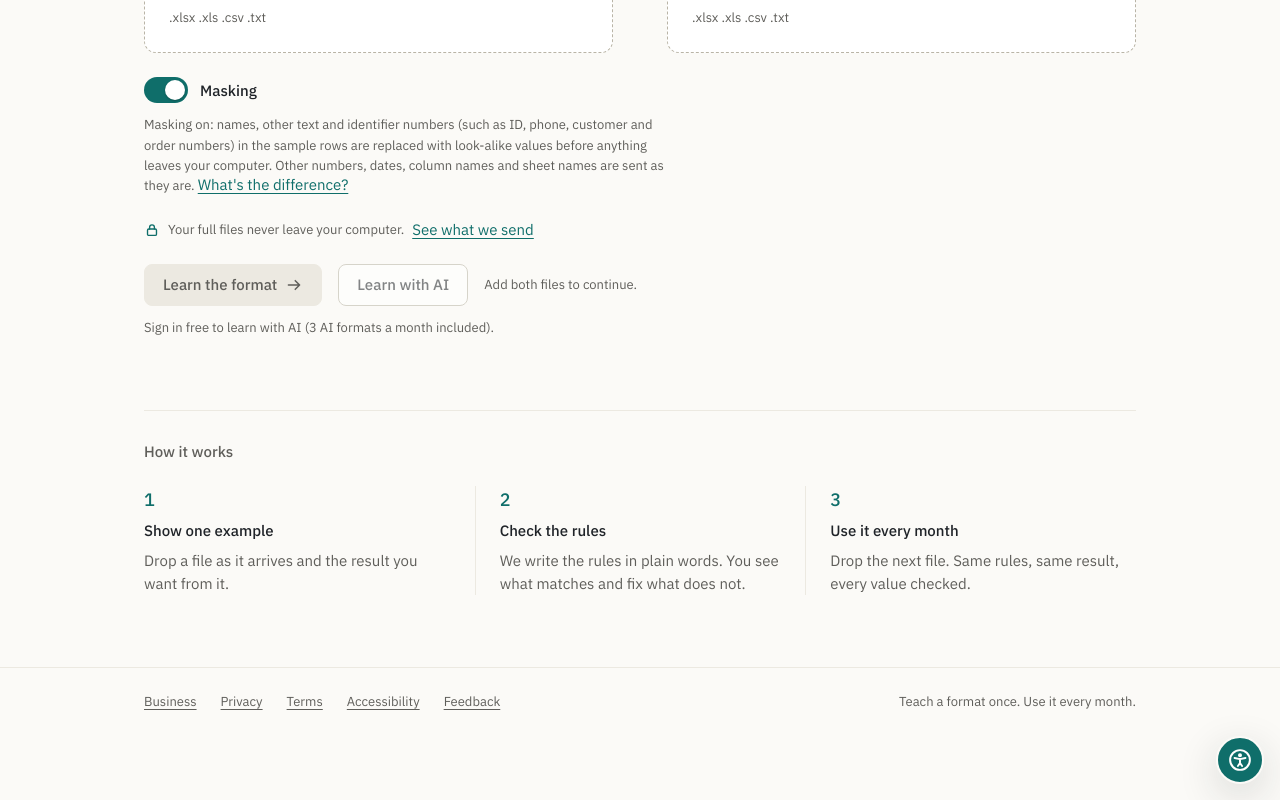
Test: feedback › sends the message, the email when given and the page path - and nothing else - then thanks
(page scrolled)
Click the button "Feedback": (472, 702) left=444, top=692, right=500, bottom=712
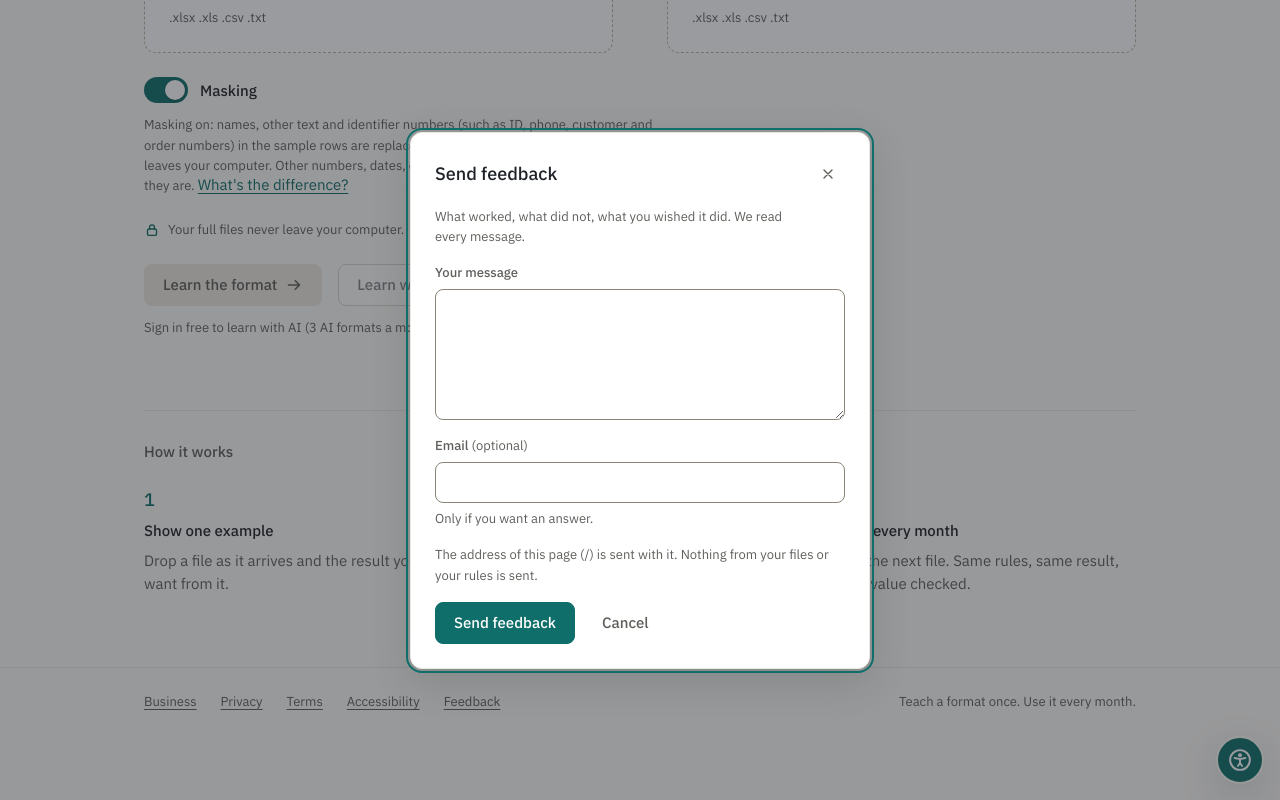
In the text box labelled "Your message": (640, 354) left=435, top=289, right=845, bottom=420, type "The preview is great."
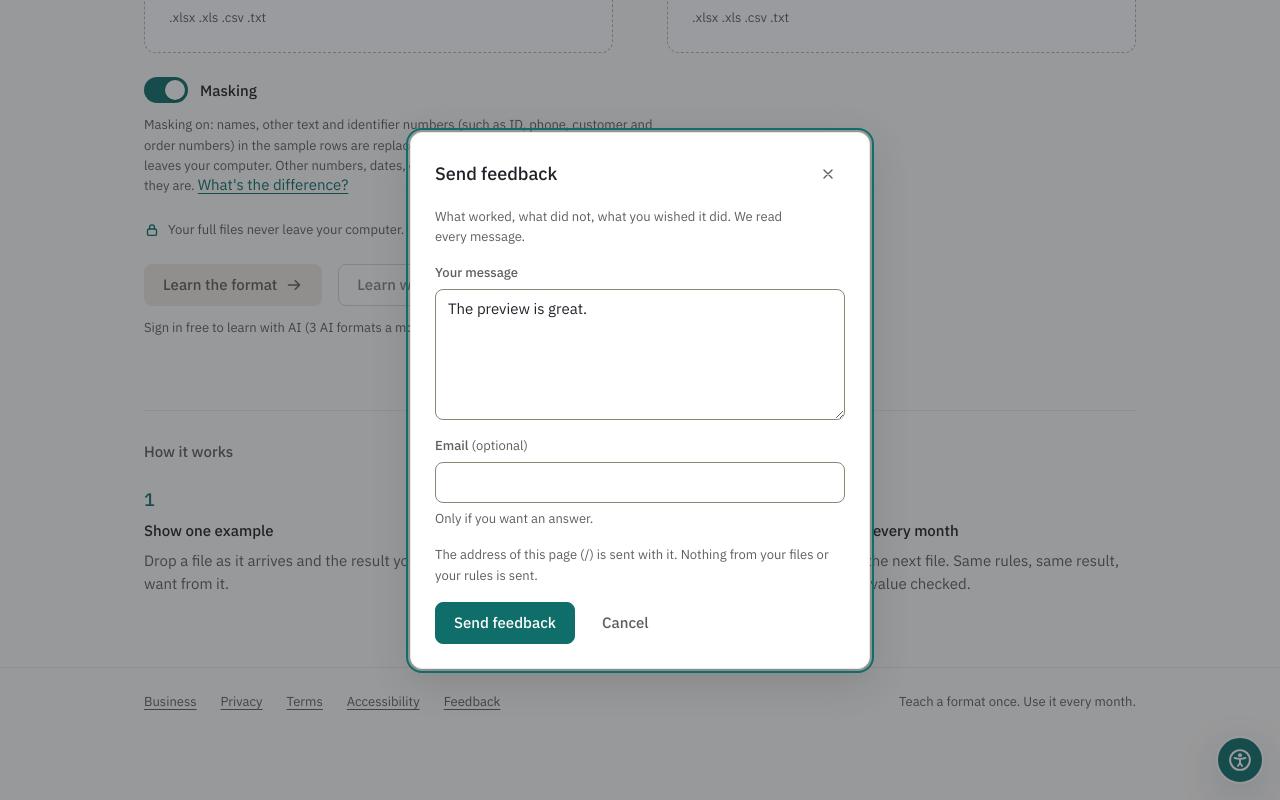
In the field labelled "Email (optional)": (640, 482) left=435, top=462, right=845, bottom=503, type "me@example.com"
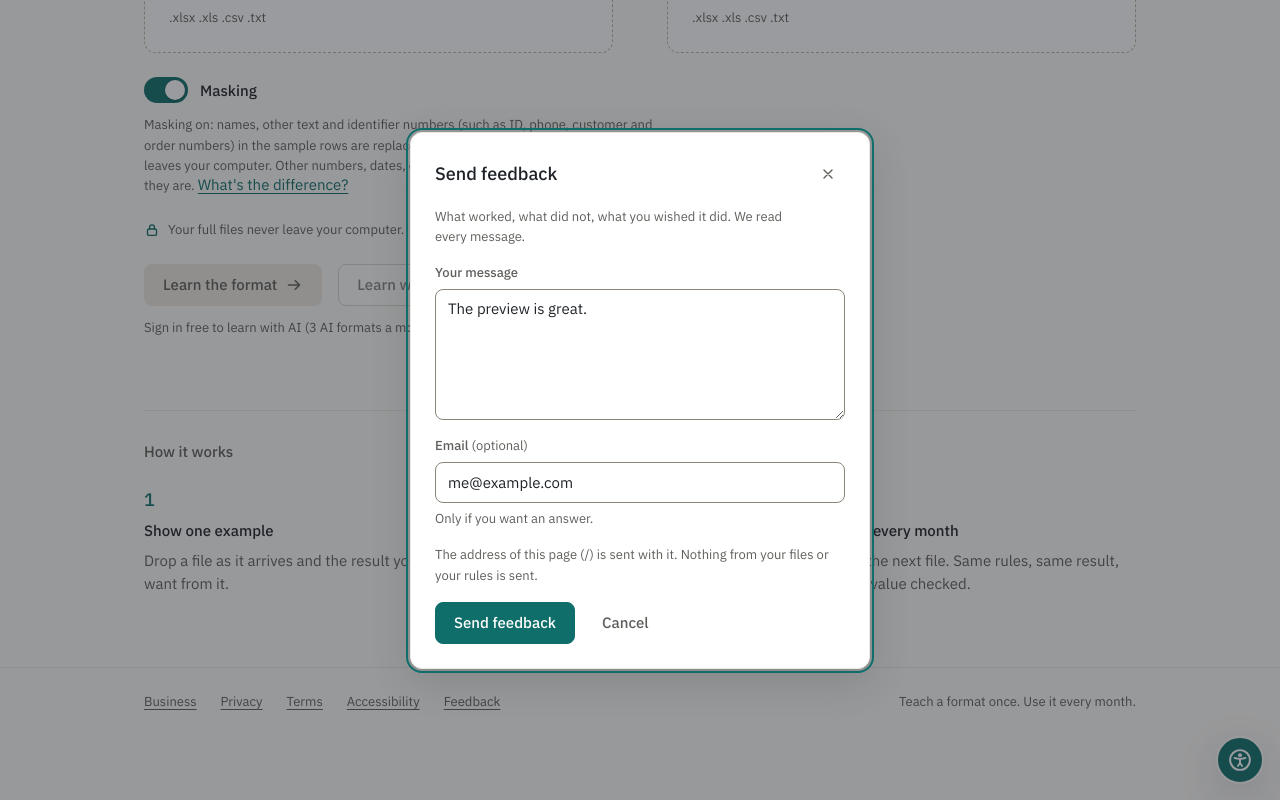
Click the button "Send feedback": (505, 622) left=435, top=601, right=575, bottom=643
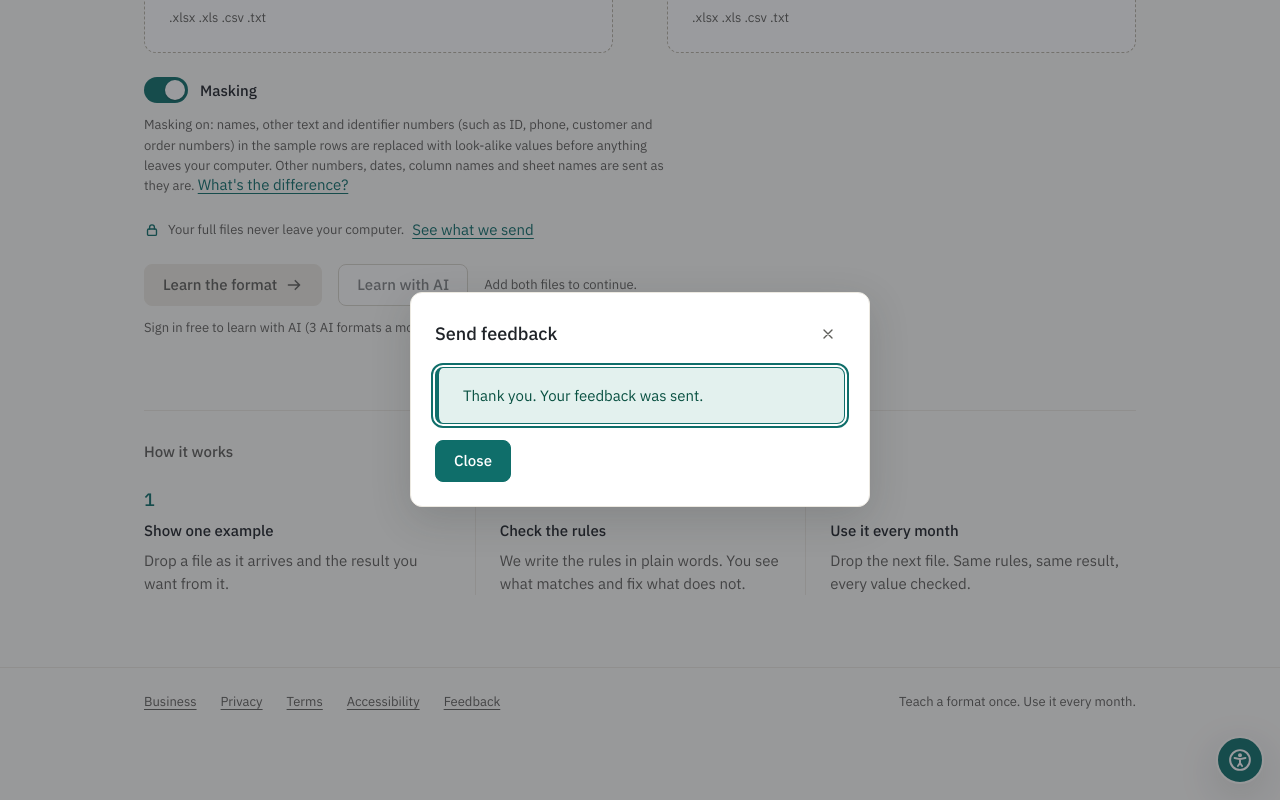
Expected: the text "Thank you. Your feedback was sent." is shown, left=463, top=386, right=704, bottom=405
Click the button "Close": (473, 462) left=435, top=441, right=511, bottom=483
(page scrolled)
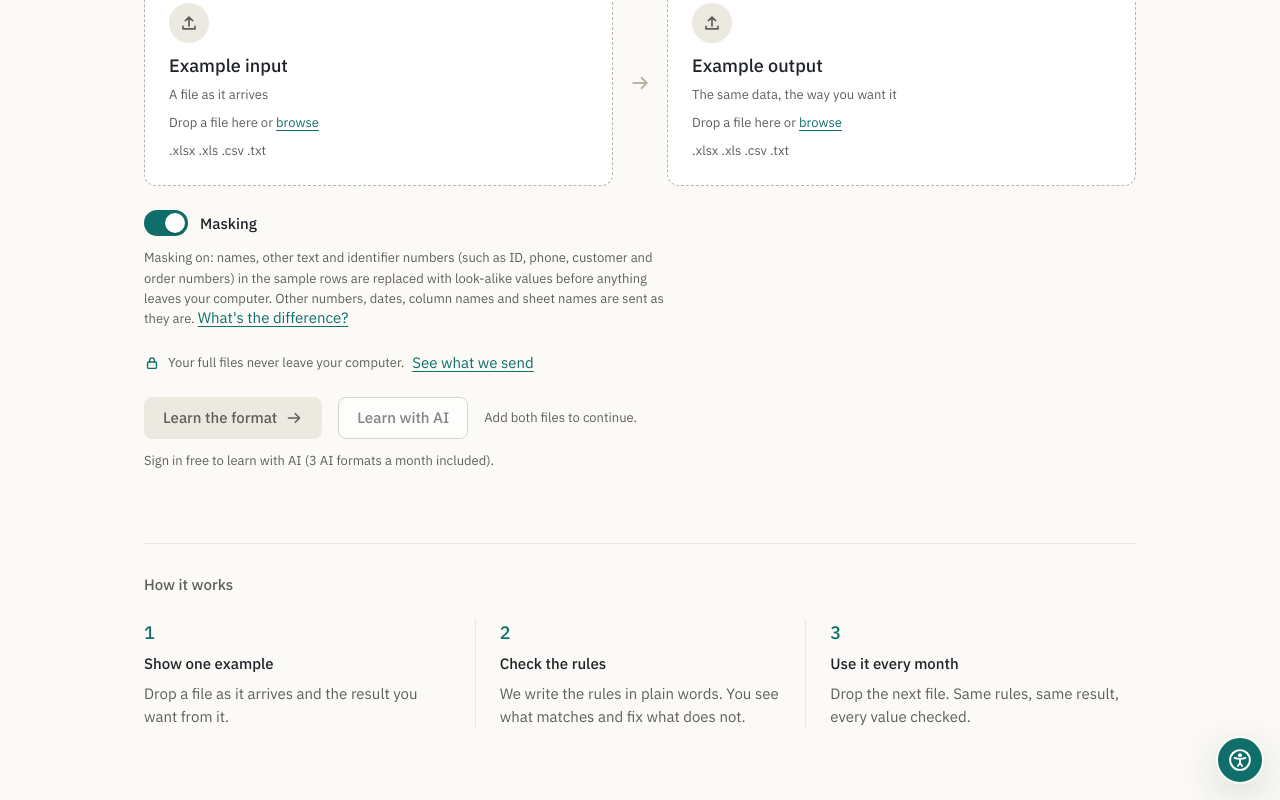
Expected: the dialog is gone
